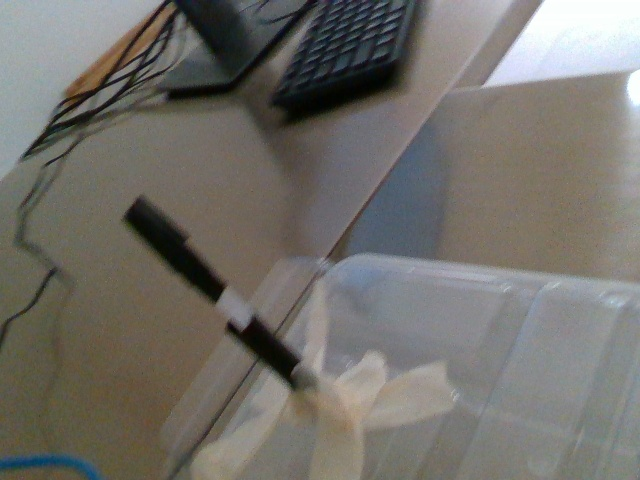test_strip: (121, 192, 253, 332)
